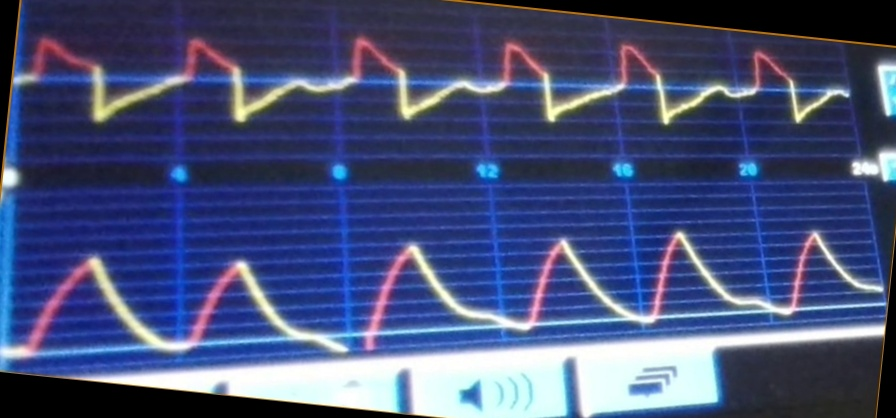Ineffective_effort Flow: (19, 31, 849, 139)
Ineffective_effort Volume: (14, 226, 878, 362)
